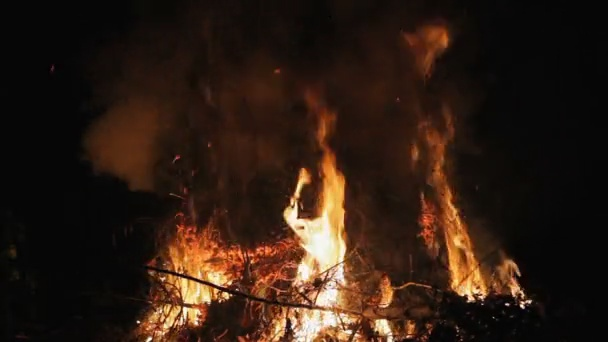fire: (264, 150, 392, 342), (145, 234, 234, 342), (441, 213, 486, 300), (500, 256, 528, 305)
